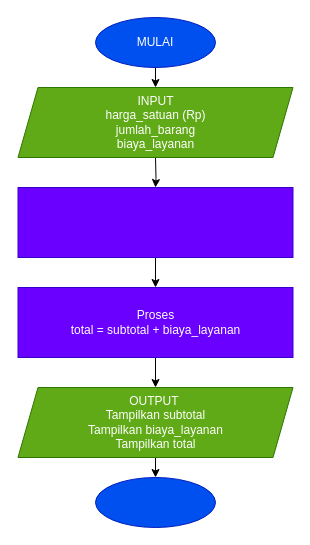
This 310x545 diagram has some shape labels left out. The shapes that lost their labels are listed below. From the top down, each one's box as (x1, y1, x2, y2) in pixels, then its label:
(17, 186, 293, 258): Proses subtotal = harga_satuan * jumlah barang
(94, 476, 216, 528): SELESAI
